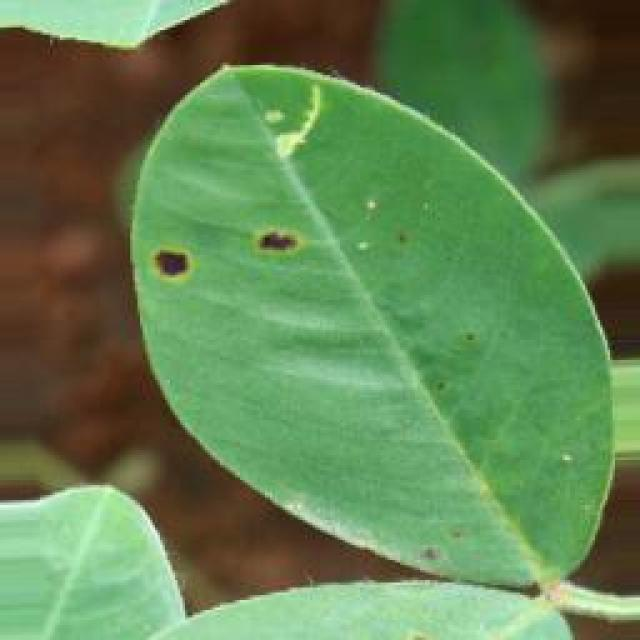Sigatoka: (122, 213, 235, 303), (249, 206, 328, 284)
